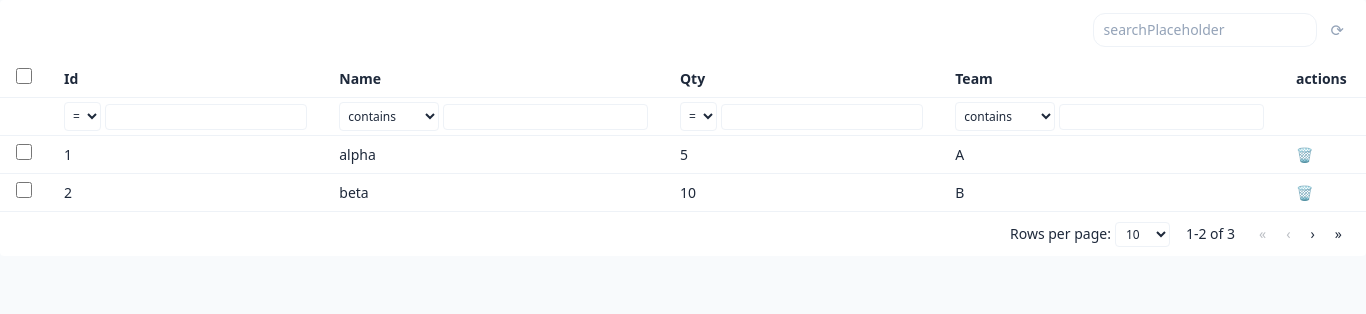
Test case: Table › keeps failed rows selected when built-in bulk delete rejects
The width and height of the screenshot is (1366, 314).
What coordinates should you click on to do the following:
click the checkbox named "Select row 1"
I would click on:
 (24, 152)
Its box is 16,144 -> 32,160.
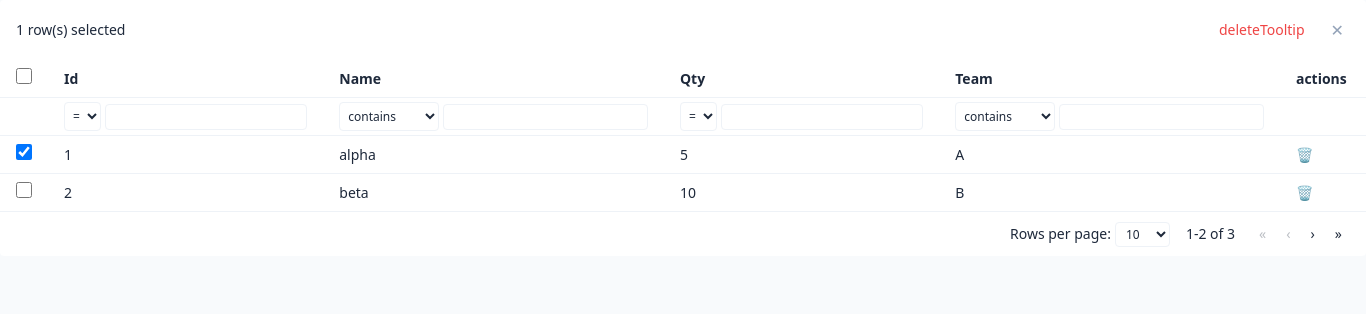
What coordinates should you click on to do the following:
click the checkbox named "Select row 2"
I would click on:
 (24, 190)
Its box is 16,182 -> 32,198.
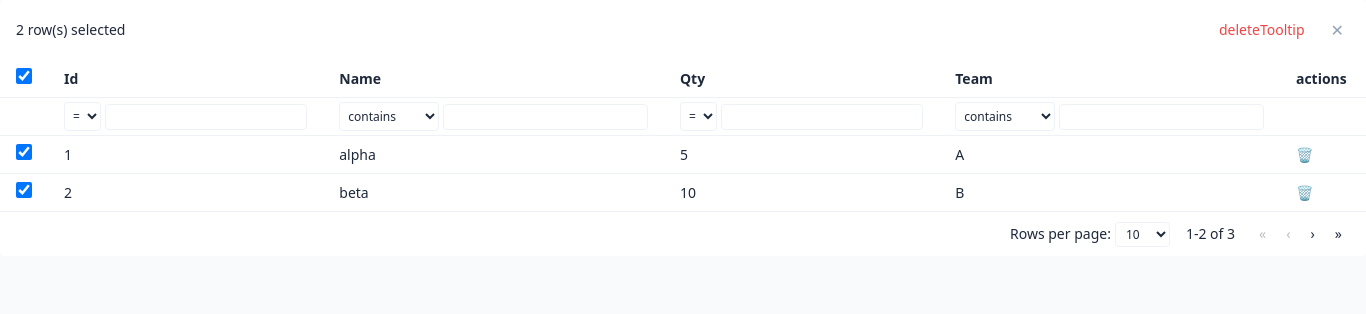
What coordinates should you click on to do the following:
click the button "deleteTooltip"
I would click on:
 (1262, 30)
Its box is 1207,16 -> 1317,44.
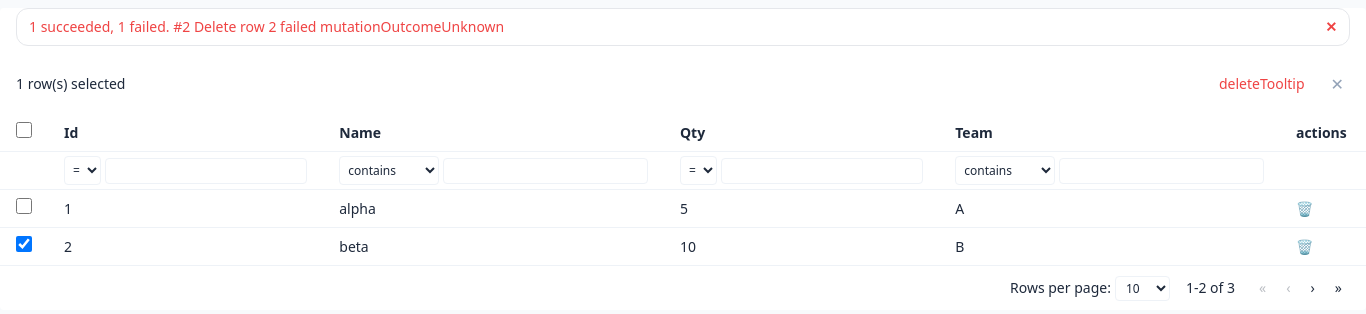
Now the checkbox named "Select row 1" is not checked, box 16,198 -> 32,214
Now the checkbox named "Select row 2" is checked, box 16,236 -> 32,252
Now the message shows "Delete row 2 failed", box 29,17 -> 504,36
